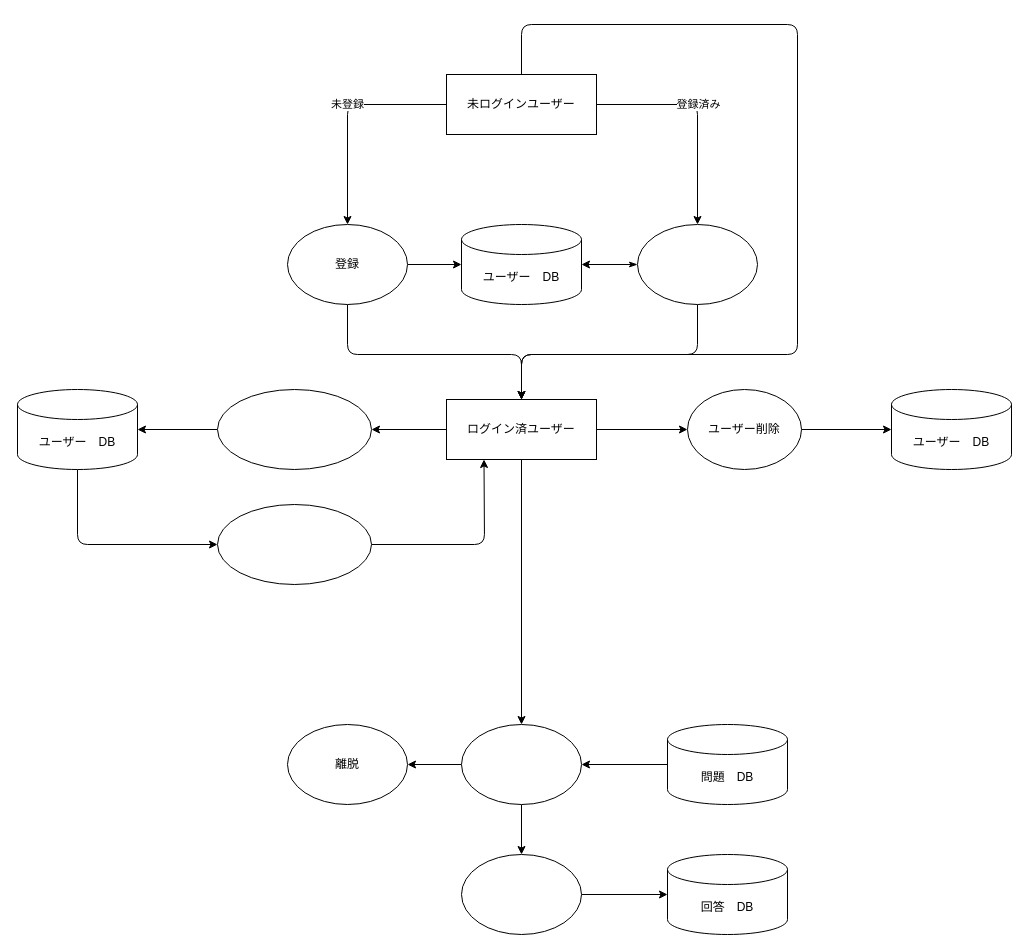
Image size: 1029x952. Some labels were removed from this diagram. The shapes that lost their labels are listed below. From the top down, each one's centre as x and y in pixels, then its label:
pixel 697 264: ログイン
pixel 294 429: パスワード変更依頼
pixel 294 544: 認証メール
pixel 521 764: ゲーム開始
pixel 521 894: 達成
